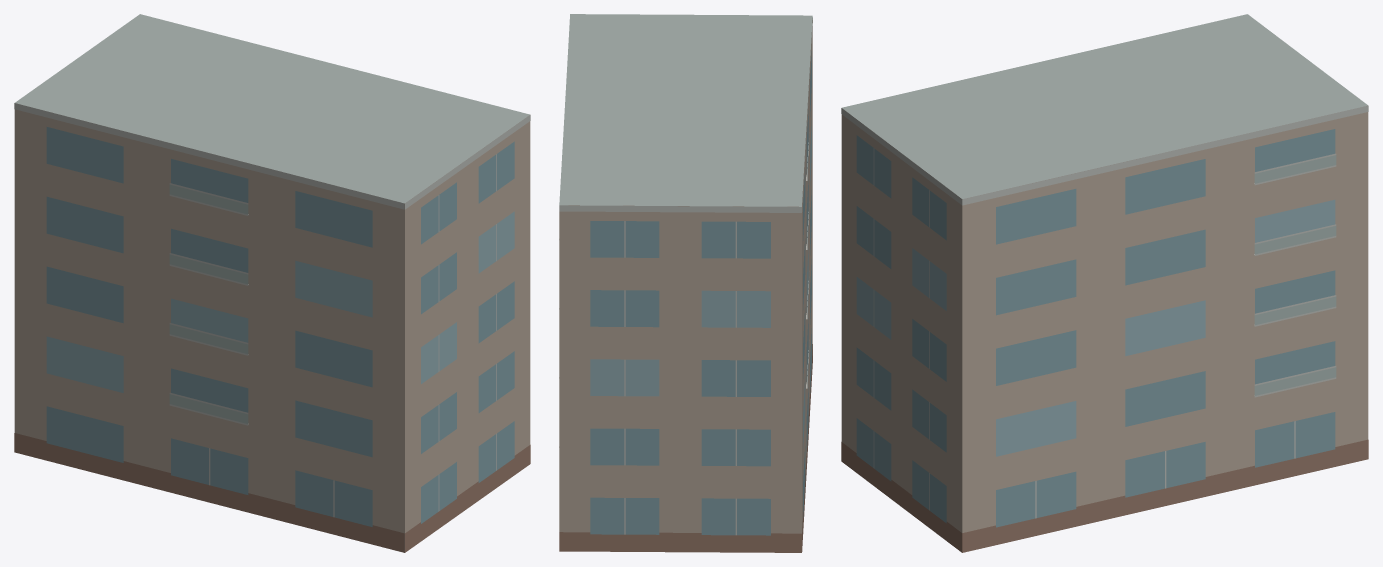
File: survey-upis-32716754.glb
3 views of the same model, side by side, from view 1: azimuth 30°, elevation 25°; view 2: azimuth 150°, elevation 25°; view 3: azimuth 270°, elevation 25° (orthographic). The views are drawn at different scales.
Parts seen in each view (by area): view 1: survey-upis-32716754.tmp; view 2: survey-upis-32716754.tmp; view 3: survey-upis-32716754.tmp.
Part boxes in pixels (x1=…): survey-upis-32716754.tmp: x1=14, y1=14, x2=530, y2=552; survey-upis-32716754.tmp: x1=559, y1=14, x2=812, y2=552; survey-upis-32716754.tmp: x1=841, y1=14, x2=1368, y2=552.
Size of the model in its own units: 15.28 by 13.6 by 18.38.
